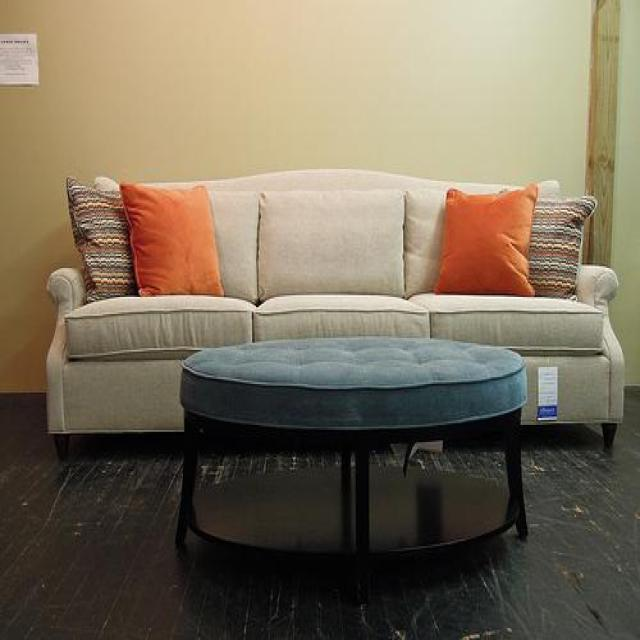sofa: (43, 166, 624, 459)
